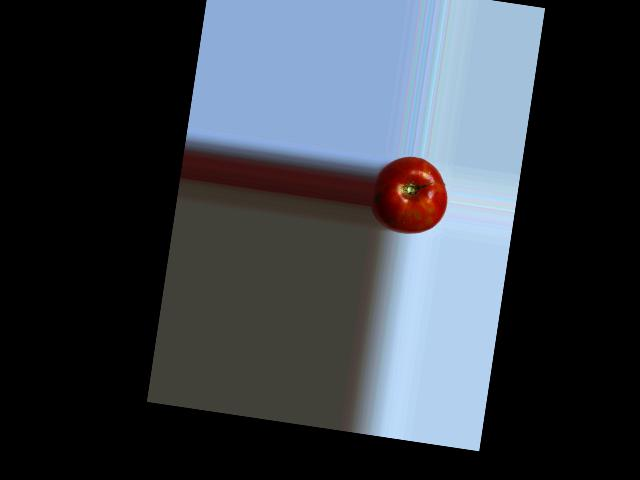tomato: (367, 151, 452, 238)
